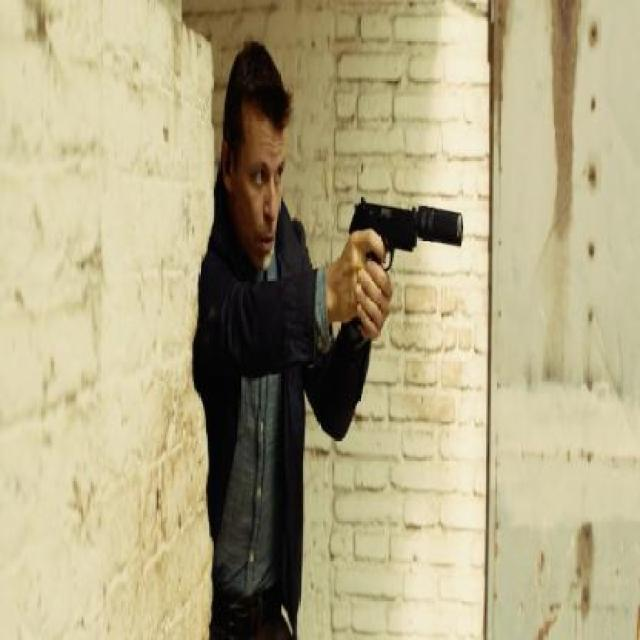gun: (338, 136, 487, 278)
